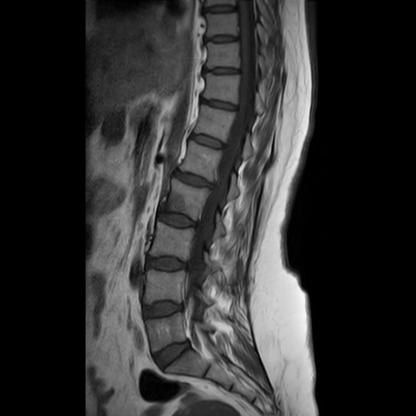Degenerative Disc Diseaserotation: (168, 168, 215, 188)
Disc Bulgerotation: (140, 297, 187, 326)
